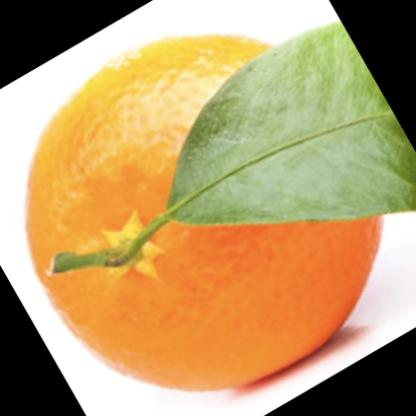fresh: (27, 30, 388, 394)
